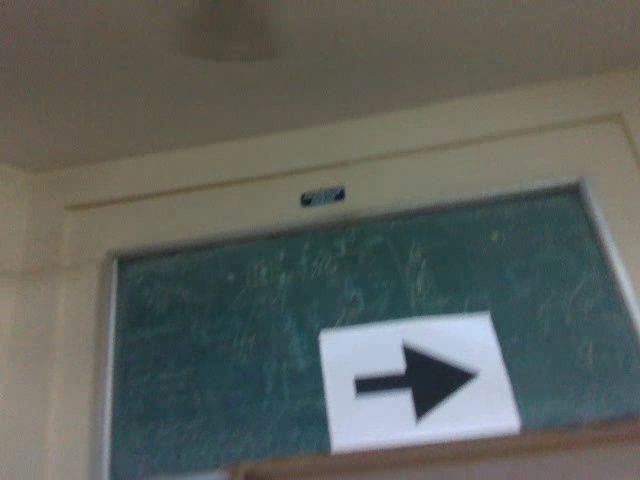Right: (342, 335, 486, 431)
